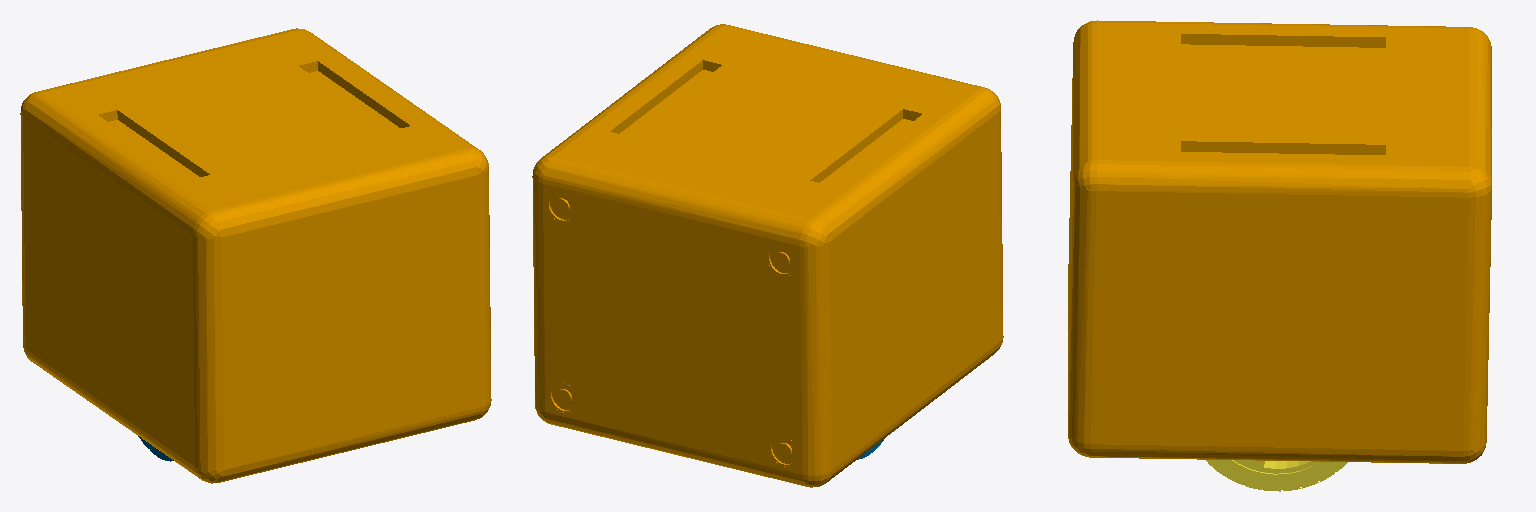
robot.urdf — morph-bot:
<?xml version="1.0" encoding="utf-8"?>
<!-- This URDF was automatically created by SolidWorks to URDF Exporter! Originally created by [author] ([email redacted]) 
     Commit Version: 1.6.0-1-g15f4949  Build Version: 1.6.7594.29634
     For more information, please see http://wiki.ros.org/sw_urdf_exporter -->
<robot
  name="morph-bot">
  <link
    name="base_link">
    <inertial>
      <origin
        xyz="-2.4606E-06 0.011027 -0.0037489"
        rpy="0 0 0" />
      <mass
        value="0.239" />
      <inertia
        ixx="0.022223"
        ixy="2.0374E-08"
        ixz="-9.7846E-09"
        iyy="0.024872"
        iyz="0.00013466"
        izz="0.020437" />
    </inertial>
    <visual>
      <origin
        xyz="0 0 0"
        rpy="0 0 0" />
      <geometry>
        <mesh
          filename="package://morph_bot_design/meshes/base_link.STL" />
      </geometry>
    </visual>
    <collision>
      <origin
        xyz="0 0 0"
        rpy="0 0 0" />
      <geometry>
        <mesh
          filename="package://morph_bot_design/meshes/base_link.STL" />
      </geometry>
    </collision>
  </link>

<gazebo reference="base_link">
  <material name="">
    <color rgba="0.79216 0.81961 0.93333 1" />
  </material>
</gazebo>

<link name="back_sphere">
  <inertial>
    <mass value="0.1" />
    <origin xyz="0 0 0" />
    <inertia ixx="0.00000000001" ixy="0.0" ixz="0.0"
      iyy="0.00000000001" iyz="0.0"
      izz="0.00000000001" />
  </inertial>

<!--   <visual>
    <origin xyz="0 0 0" />
    <geometry>
      <sphere radius="0.002297" />
    </geometry>
  </visual> -->

  <collision>
    <origin xyz="0 0 0" />
    <geometry>
      <sphere radius="0.002297" />
    </geometry>
  </collision>
</link>

<gazebo reference="back_sphere">
  <mu1>0.0</mu1>
  <mu2>0.0</mu2>
</gazebo>

<joint name="back_support" type="fixed">
  <parent link="base_link" />
  <child link="back_sphere" />
  <origin xyz="0 -0.03 0" rpy="0 0 0" />
</joint>

<link name="front_sphere">
  <inertial>
    <mass value="0.0125" />
    <origin xyz="0 0 0" />
    <inertia ixx="0.00000000001" ixy="0.0" ixz="0.0"
      iyy="0.00000000001" iyz="0.0"
      izz="0.00000000001" />
  </inertial>

<!--   <visual>
    <origin xyz="0 0 0" />
    <geometry>
      <sphere radius="0.002297" />
    </geometry>
  </visual> -->

  <collision>
    <origin xyz="0 0 0" />
    <geometry>
      <sphere radius="0.002297" />
    </geometry>
  </collision>
</link>

<gazebo reference="front_sphere">
  <mu1>0.0</mu1>
  <mu2>0.0</mu2>
</gazebo>

<joint name="front_support" type="fixed">
  <parent link="base_link" />
  <child link="front_sphere" />
  <origin xyz="0 0.03 0" rpy="0 0 0" />
</joint>

  <link
    name="left_wheel">
    <inertial>
      <origin
        xyz="0.0031767 0 0"
        rpy="0 0 0" />
      <mass
        value="0.20688" />
      <inertia
        ixx="7.8842E-05"
        ixy="4.1106E-11"
        ixz="1.3096E-11"
        iyy="4.0023E-05"
        iyz="4.5149E-10"
        izz="4.0023E-05" />
    </inertial>
    <visual>
      <origin
        xyz="0 0 0"
        rpy="0 0 0" />
      <geometry>
        <mesh
          filename="package://morph_bot_design/meshes/left_wheel.STL" />
      </geometry>
    </visual>
    <collision>
      <origin
        xyz="0 0 0"
        rpy="0 0 0" />
      <geometry>
        <mesh
          filename="package://morph_bot_design/meshes/left_wheel.STL" />
      </geometry>
    </collision>
  </link>

<gazebo reference="left_wheel">
  <material name="">
    <color rgba="0.094118 0.094118 0.094118 1" />
  </material>
</gazebo>

  <link
    name="right_wheel">
    <inertial>
      <origin
        xyz="0.0031767 0 0"
        rpy="0 0 0" />
      <mass
        value="0.20688" />
      <inertia
        ixx="7.8842E-05"
        ixy="4.0951E-11"
        ixz="1.3204E-11"
        iyy="4.0023E-05"
        iyz="4.515E-10"
        izz="4.0023E-05" />
    </inertial>
    <visual>
      <origin
        xyz="0 0 0"
        rpy="0 0 0" />
      <geometry>
        <mesh
          filename="package://morph_bot_design/meshes/right_wheel.STL" />
      </geometry>
    </visual>
    <collision>
      <origin
        xyz="0 0 0"
        rpy="0 0 0" />
      <geometry>
        <mesh
          filename="package://morph_bot_design/meshes/right_wheel.STL" />
      </geometry>
    </collision>
  </link>

  <gazebo reference="right_wheel">
  <material name="">
    <color rgba="0.094118 0.094118 0.094118 1" />
  </material>
</gazebo>

  <joint
    name="left_motor"
    type="continuous">
    <origin
      xyz="0 0 0"
      rpy="-1.2608 0 0" />
    <parent
      link="base_link" />
    <child
      link="left_wheel" />
    <axis
      xyz="1 0 0" />
  </joint>
  <joint
    name="right_motor"
    type="continuous">
    <origin
      xyz="-0.06 0 0"
      rpy="1.2608 0 3.146" />
    <parent
      link="base_link" />
    <child
      link="right_wheel" />
    <axis
      xyz="-1 0 0" />
  </joint>
</robot>

--- What the picture shows (computed from the rendered views, not written in the file) ---
The picture shows the robot from 3 angles, left to right: view 1: azimuth 30°, elevation 25°; view 2: azimuth 150°, elevation 25°; view 3: azimuth 270°, elevation 25°; orthographic projection.
Model morph-bot with 5 links and 4 joints (2 continuous, 2 fixed), rooted at base_link, posed all joints at 0.
Links seen in each view (by area): view 1: base_link; view 2: base_link; view 3: base_link, left_wheel.
Boxes of the visible links, x1,y1,x2,y2 form: base_link: (20, 28, 491, 483); base_link: (532, 24, 1003, 487); base_link: (1068, 20, 1491, 463); left_wheel: (1206, 460, 1347, 491).
Bounding box of the posed robot: 0.1016 × 0.1158 × 0.103 m (x, y, z).
Meshes: 3 distinct files referenced, 3 mesh visuals loaded (3 binary STL).
